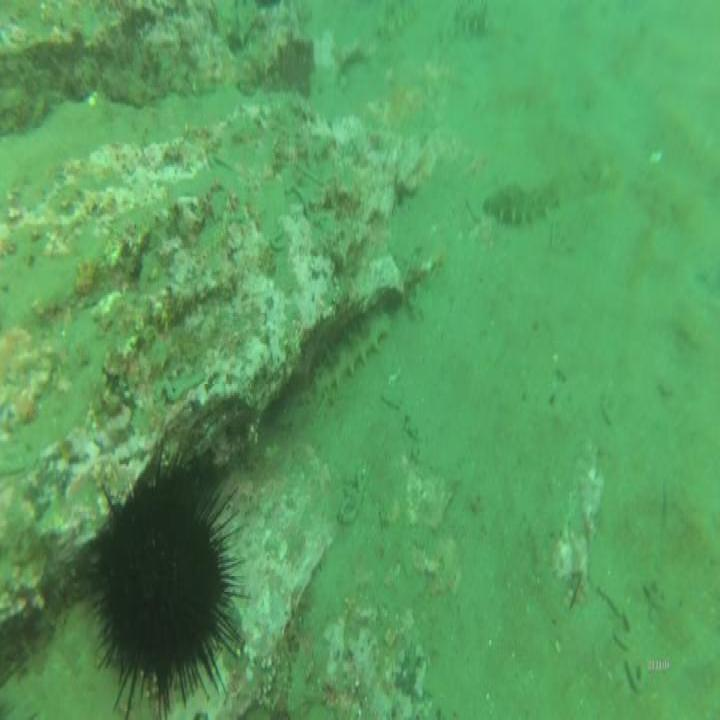echinus: (80, 437, 255, 720)
holothurian: (484, 156, 613, 233), (310, 302, 393, 398)
